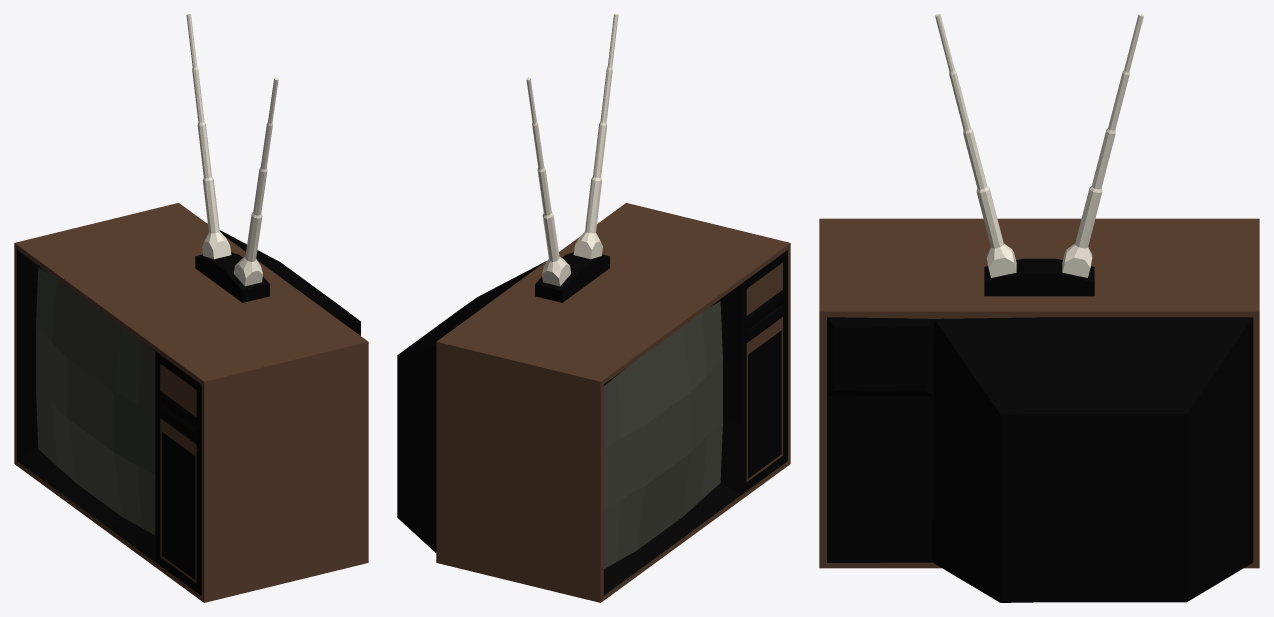
The model's file is 70sTV.fbx.
3 renders of one model, left to right at view 1: azimuth 30°, elevation 25°; view 2: azimuth 150°, elevation 25°; view 3: azimuth 270°, elevation 25°, orthographic. The views are drawn at different scales.
Parts seen in each view (by area): view 1: TV; view 2: TV; view 3: TV.
Part boxes in pixels (box(x1,y1,x2,y2)): TV: box(14, 14, 368, 602); TV: box(397, 14, 790, 602); TV: box(819, 14, 1259, 602).
Size of the model in its own units: 50.22 by 93.04 by 70.
